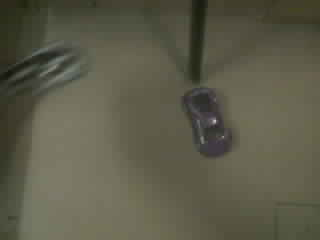Car: (183, 88, 231, 156)
